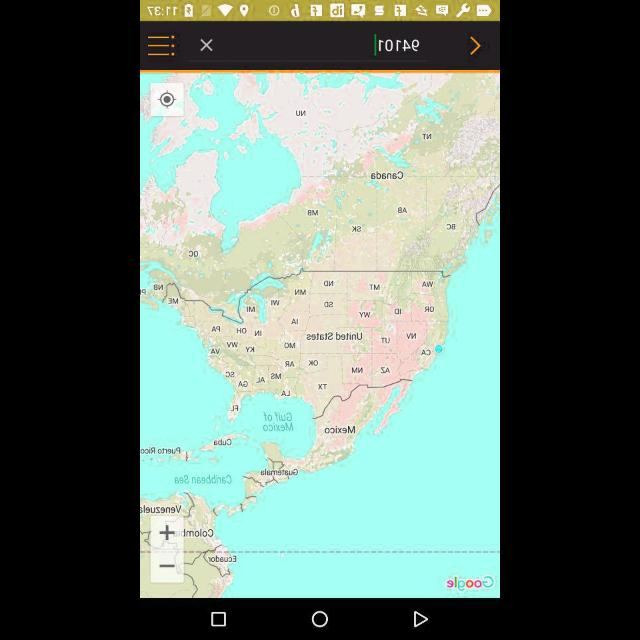icon: (147, 33, 176, 61), (312, 612, 328, 628), (413, 611, 429, 627), (470, 34, 480, 56), (212, 612, 226, 626)
input: (190, 33, 430, 61)
map: (140, 72, 500, 598)
panel: (140, 599, 500, 639)
text: (377, 39, 419, 53)
toolbar: (140, 23, 500, 71)
uppertaskbar: (140, 1, 500, 22)
